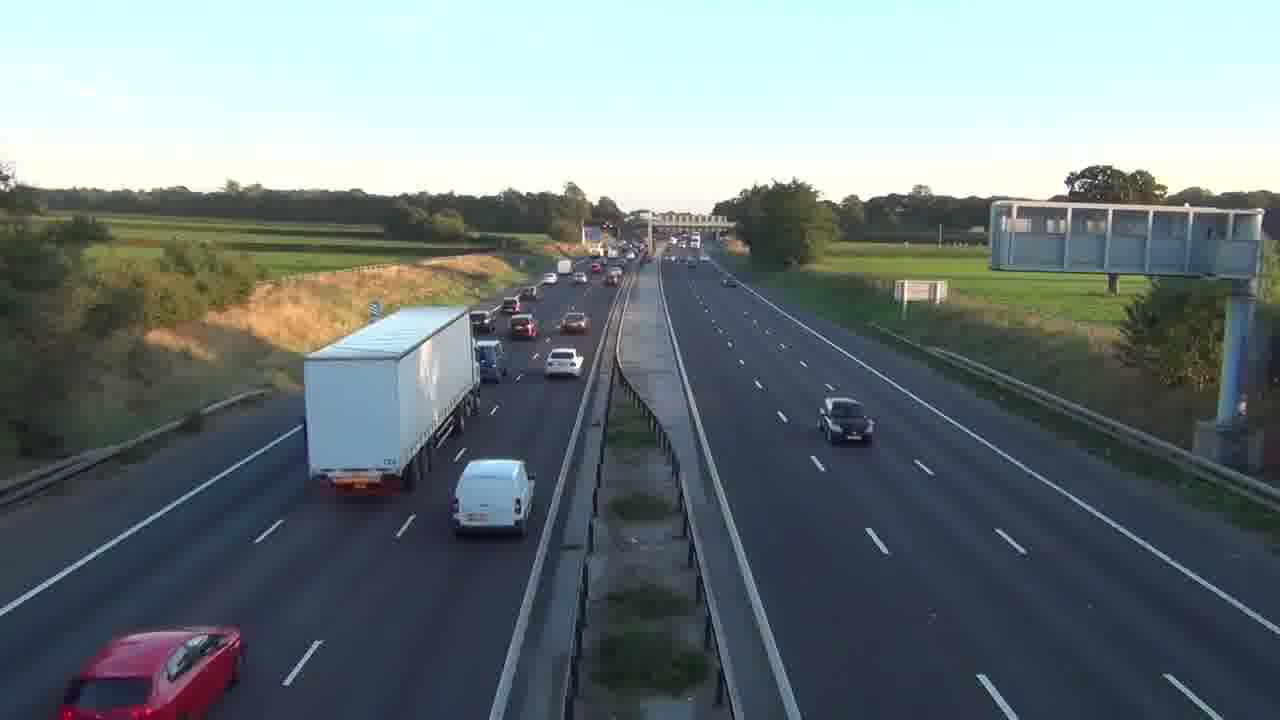car: (818, 398, 875, 445), (545, 347, 583, 378), (558, 310, 591, 335)
truck: (303, 306, 482, 497), (54, 624, 245, 718), (449, 458, 535, 538)
